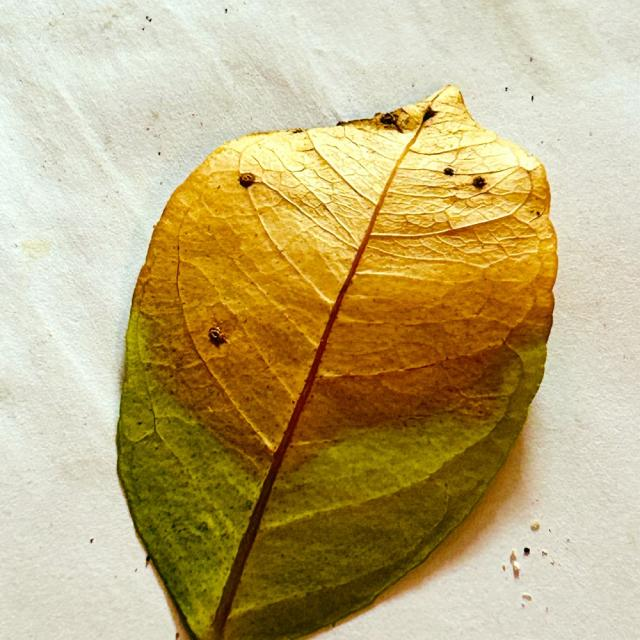DryLeaf_Lemon: (132, 72, 555, 478)
